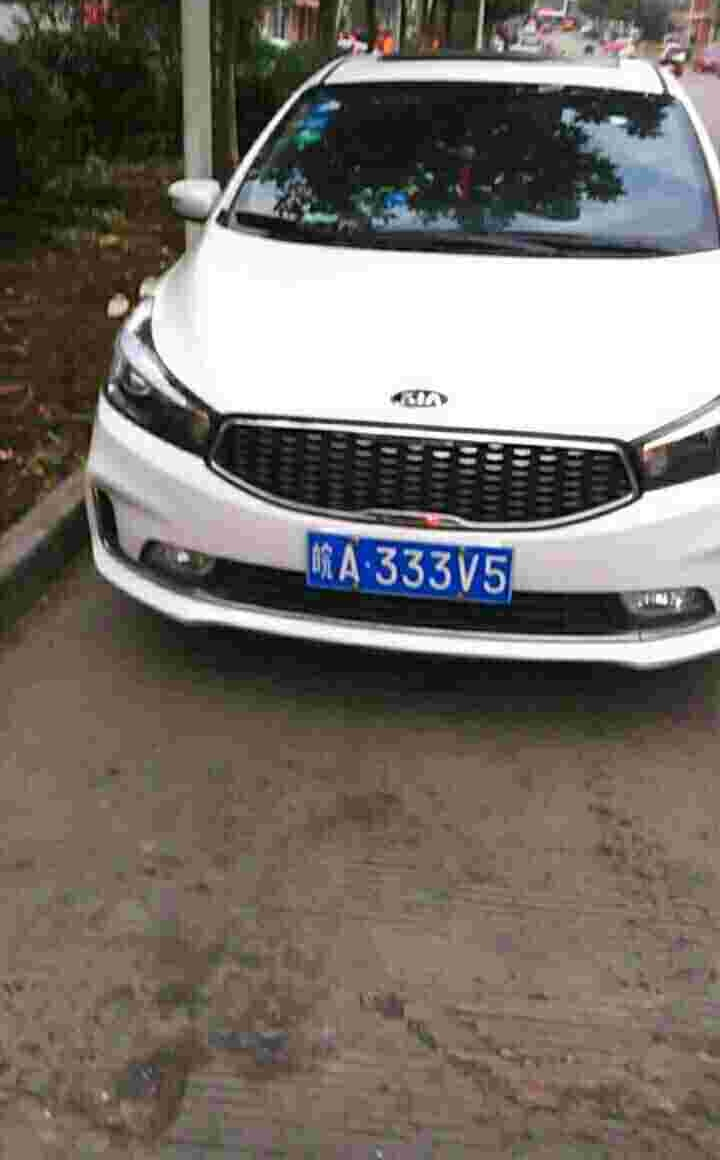license_plate: (312, 527, 524, 604)
